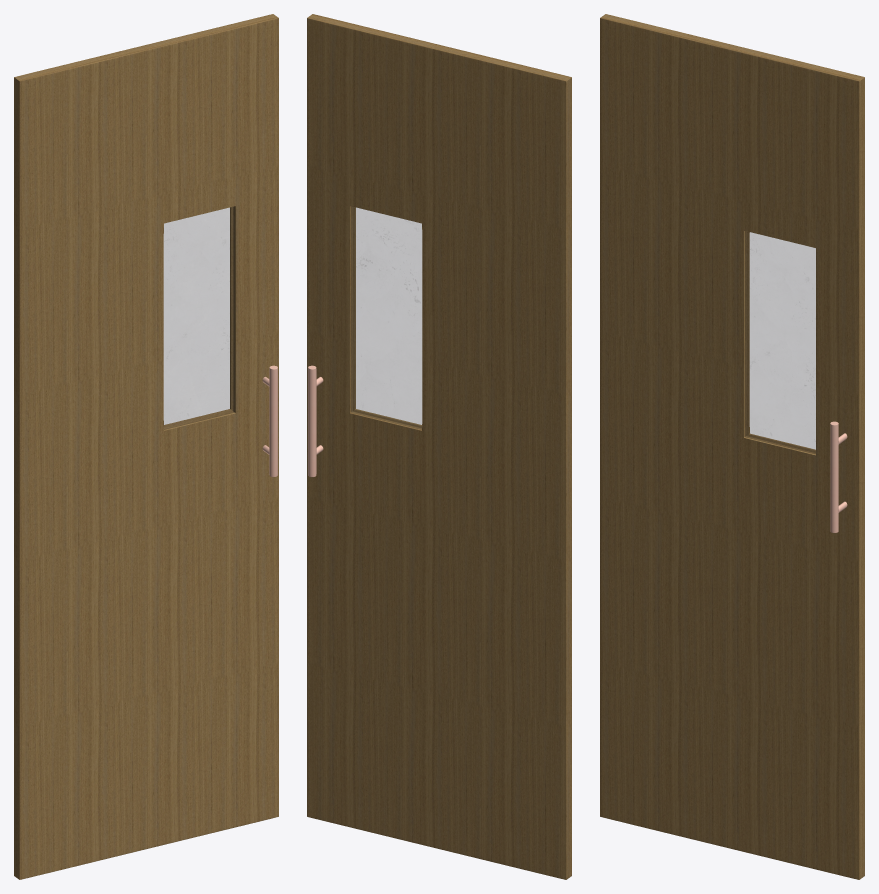
File: Door-transformed.glb
The picture shows the model from 3 angles, left to right: view 1: azimuth 30°, elevation 25°; view 2: azimuth 150°, elevation 25°; view 3: azimuth 330°, elevation 25°; orthographic projection.
Visible parts, largest first — view 1: Door-light; view 2: Door-light; view 3: Door-light.
Boxes of the visible parts, <box> form: Door-light: <box>14,14,278,879</box>; Door-light: <box>307,14,571,879</box>; Door-light: <box>600,14,864,879</box>.
Bounding box in the file's own units: 0.255 × 0.75 × 0.0501.
Materials: 3 (3 with a texture image).
